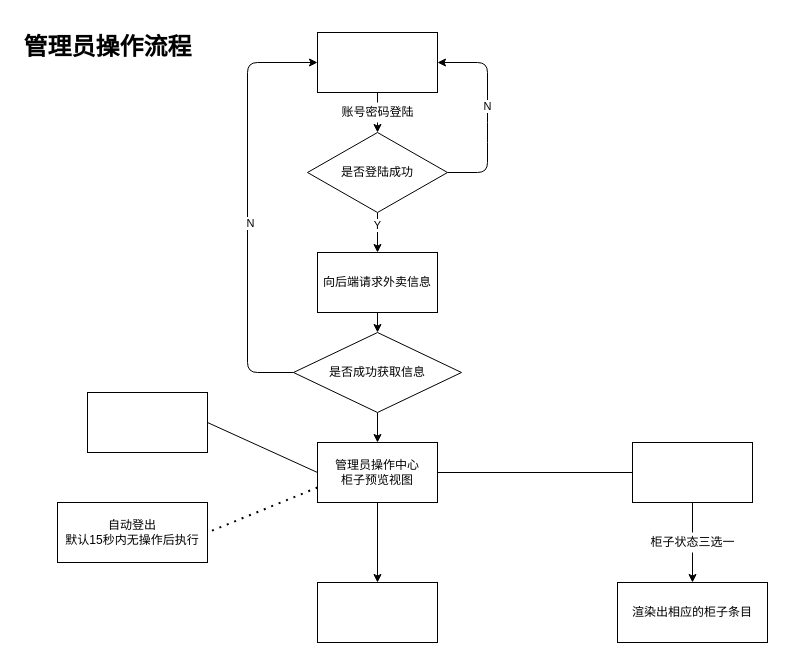
This 785x660 diagram has some shape labels left out. Here are the shapes that lost their labels. From the top down, the centre of each, then its label:
At pixel 377 62: "选择管理员登陆".
At pixel 147 422: "主动登出".
At pixel 692 472: "查询筛选".
